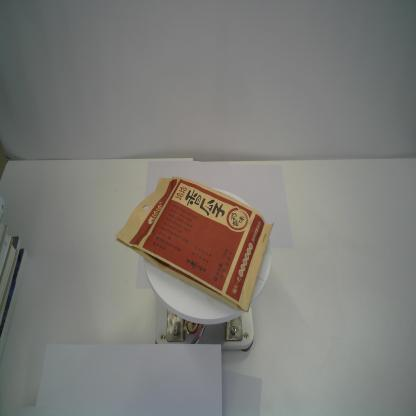Dried Food: (114, 176, 274, 313)
